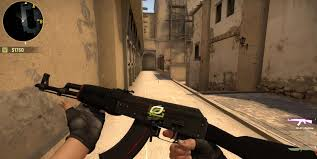gun: (30, 70, 315, 158)
